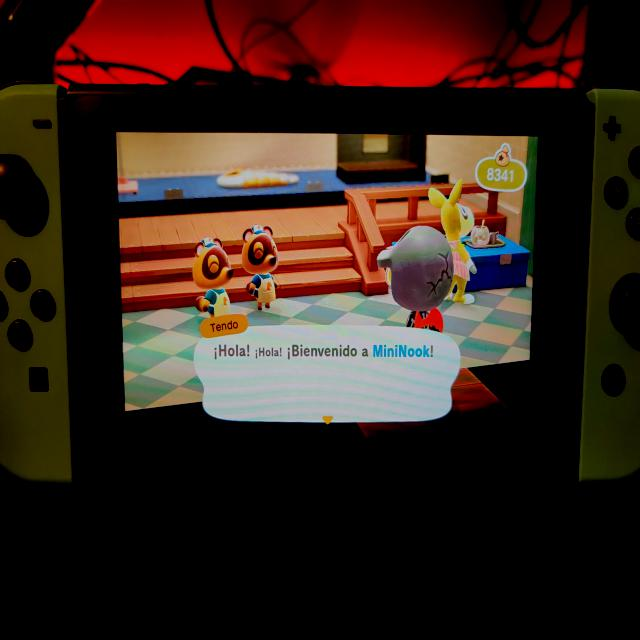text_bubble: (192, 312, 465, 428)
